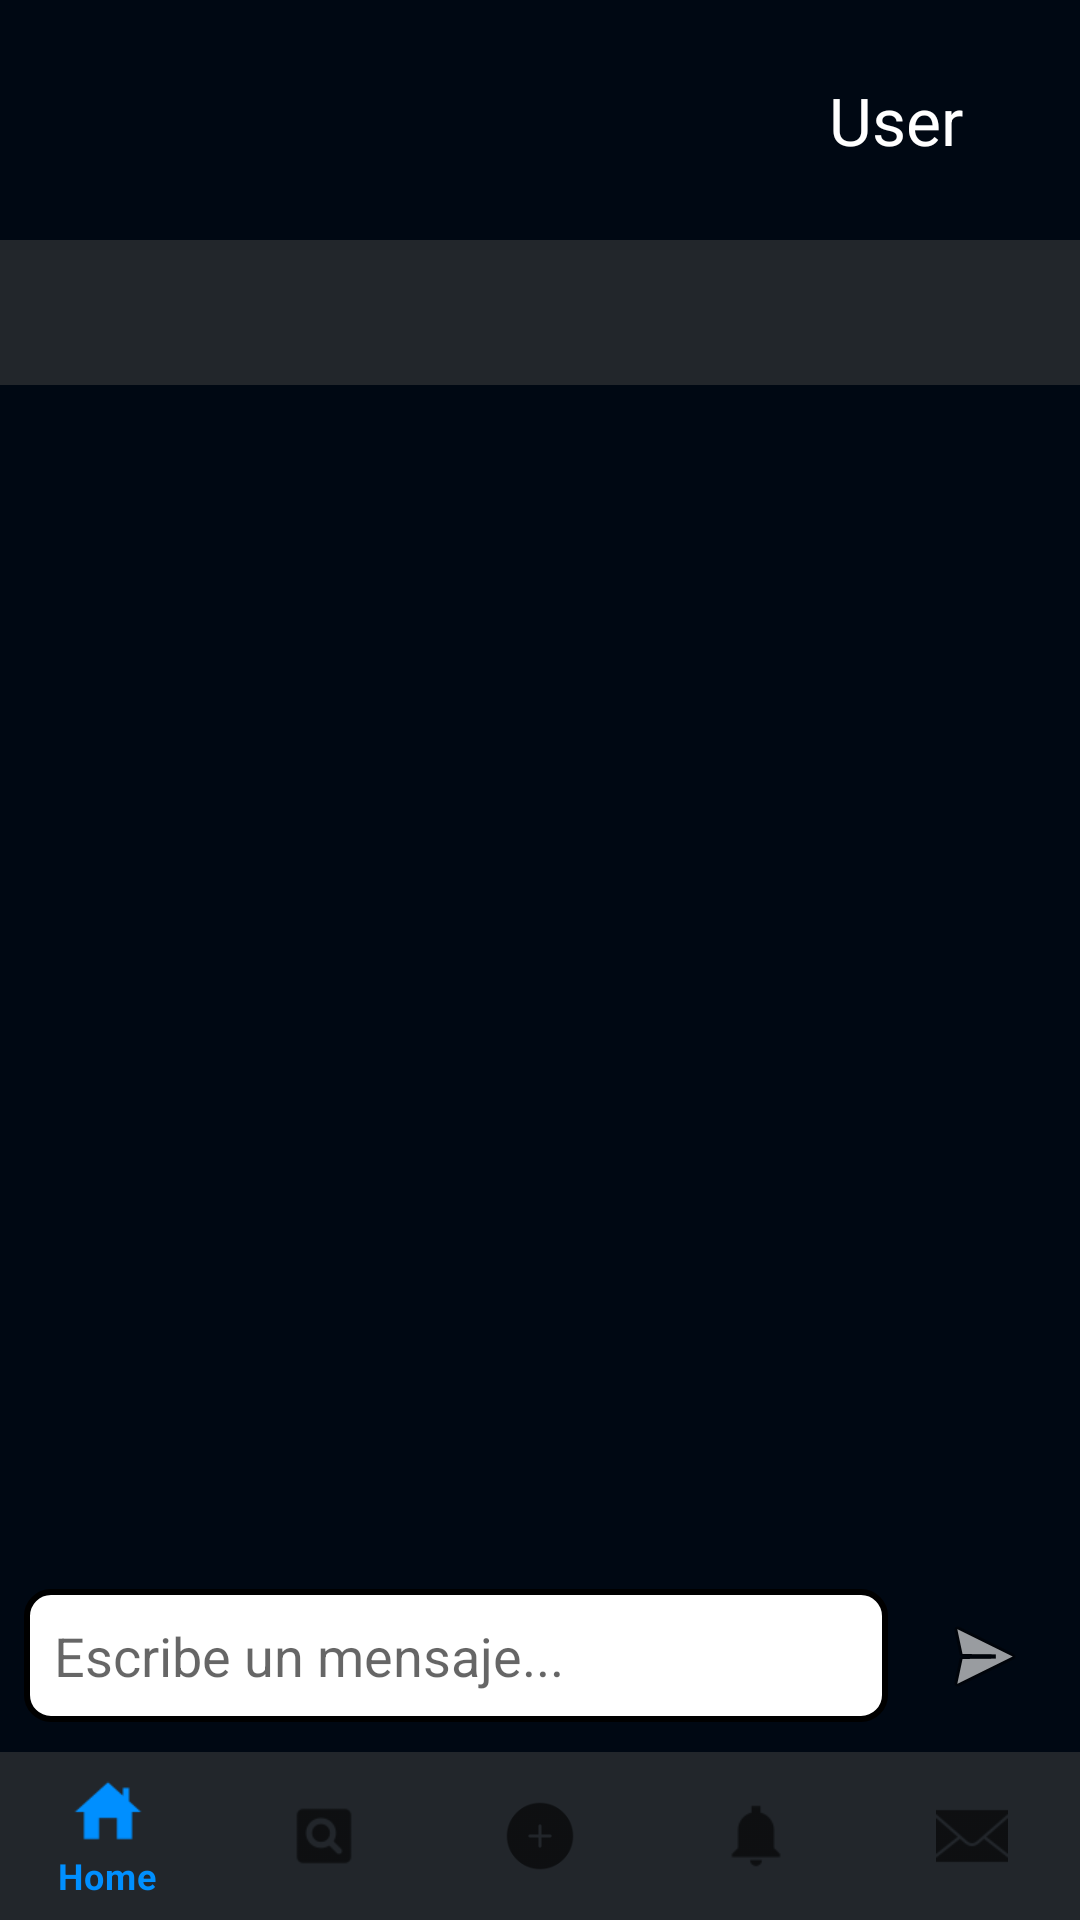

Icons on this 1080×1920 Android screen, each with its box as (x1, y1, x2, y2):
Enviar mensaje: (957, 1629, 1013, 1684)
